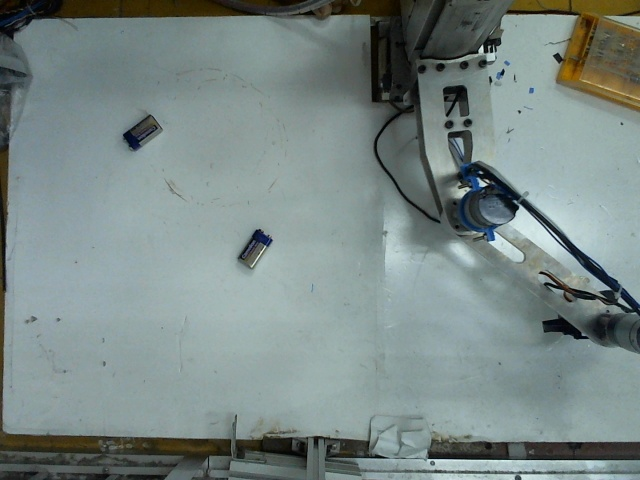battery: (116, 114, 167, 149), (233, 224, 274, 267)
